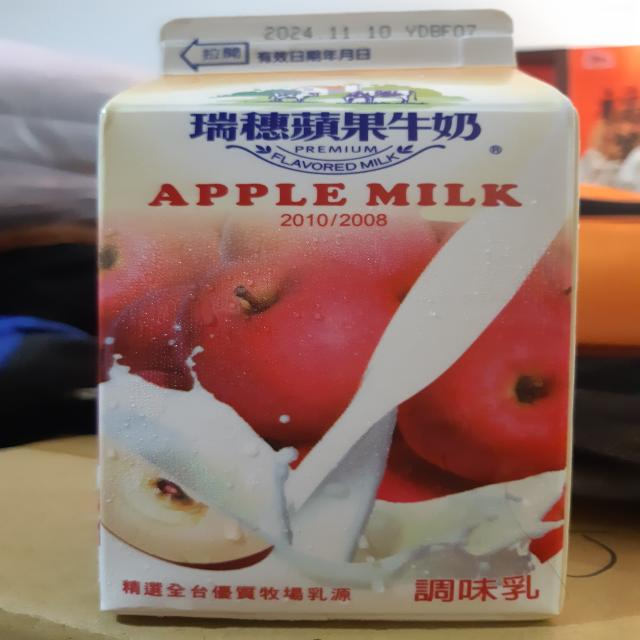RuiSui_AppleMilk: (76, 2, 579, 629)
